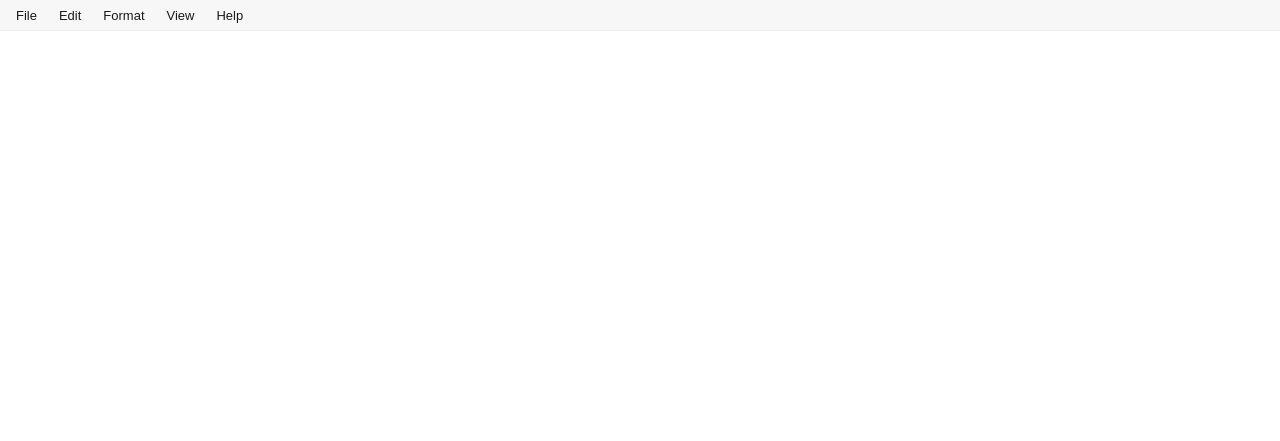
Test case: AppMenu › switches menus on hover while one is open
Step 1. Click the button "File" → click(26, 15), box [6,4,47,26]
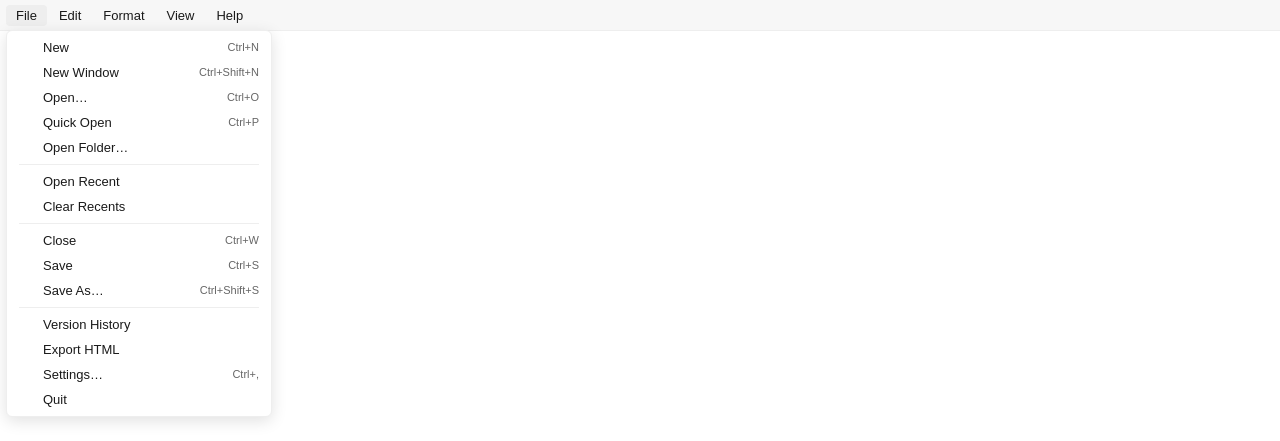
Step 2. Hover over the button "Edit" → (70, 15), box [49,4,91,26]
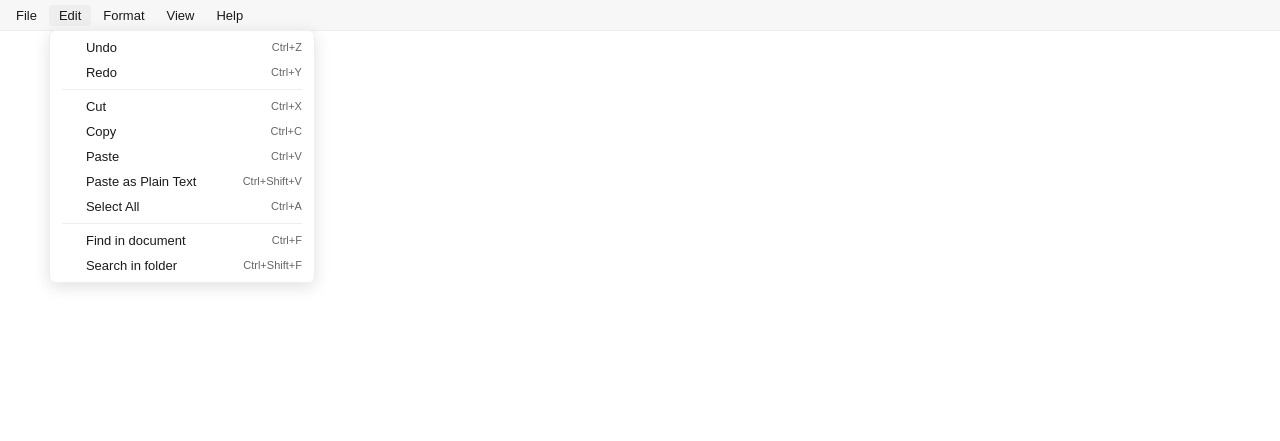
Check: the menu item "Undo Ctrl+Z" is shown, box [50,34,314,60]
Check: the menu item "Save" is gone
